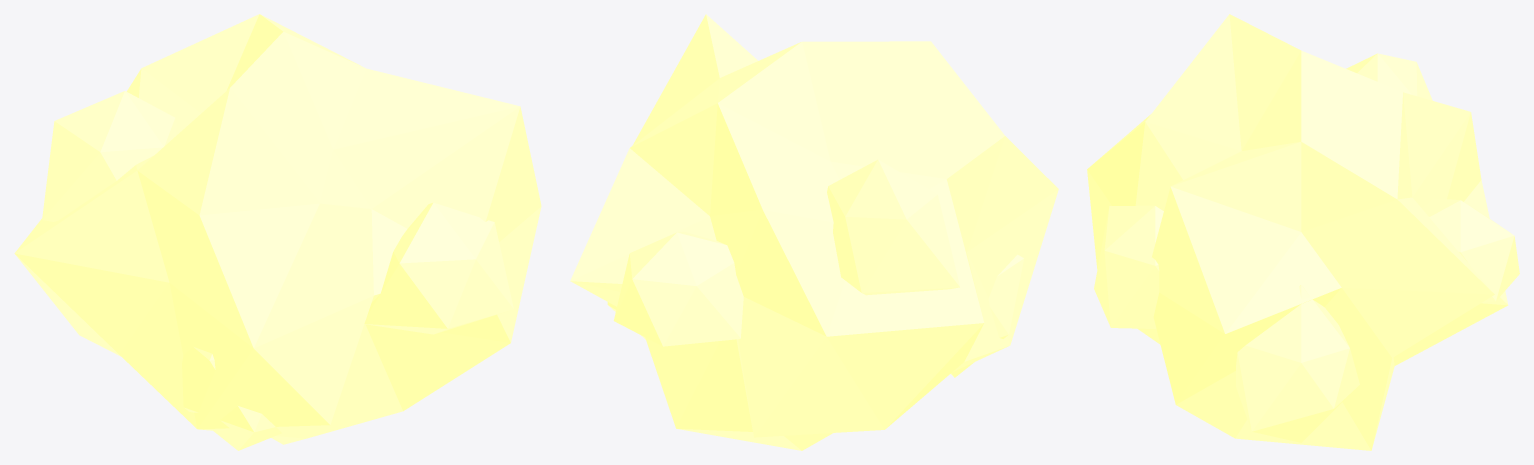
Rendered from FireballB.fbx.
3 views of the same model, side by side, from view 1: azimuth 30°, elevation 25°; view 2: azimuth 150°, elevation 25°; view 3: azimuth 270°, elevation 25° (orthographic). The views are drawn at different scales.
Visible parts, largest first — view 1: Emit_Fire0.001, Emit_Lobe4, Emit_Lobe2, Emit_Lobe3; view 2: Emit_Fire0.001, Emit_Lobe2, Emit_Lobe1, Emit_Lobe3; view 3: Emit_Fire0.001, Emit_Lobe0, Emit_Lobe4, Emit_Lobe1, Emit_Lobe2.
Part boxes in pixels (bbox=[...]): Emit_Fire0.001: bbox=[14, 14, 541, 444]; Emit_Lobe4: bbox=[364, 202, 513, 334]; Emit_Lobe2: bbox=[42, 91, 176, 221]; Emit_Lobe3: bbox=[182, 347, 281, 450]; Emit_Fire0.001: bbox=[570, 14, 1058, 450]; Emit_Lobe2: bbox=[827, 159, 959, 295]; Emit_Lobe1: bbox=[613, 231, 743, 346]; Emit_Lobe3: bbox=[950, 254, 1023, 377]; Emit_Fire0.001: bbox=[1087, 14, 1508, 450]; Emit_Lobe0: bbox=[1236, 285, 1359, 442]; Emit_Lobe4: bbox=[1094, 205, 1163, 328]; Emit_Lobe1: bbox=[1422, 198, 1519, 302]; Emit_Lobe2: bbox=[1346, 53, 1432, 100].
Bounding box in the file's own units: 1.22 × 1.1 × 1.08.
